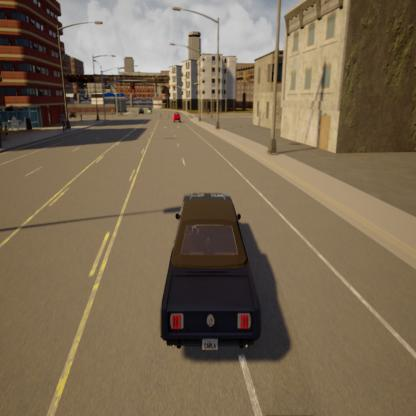Cars: (149, 184, 269, 358), (170, 109, 184, 128)
